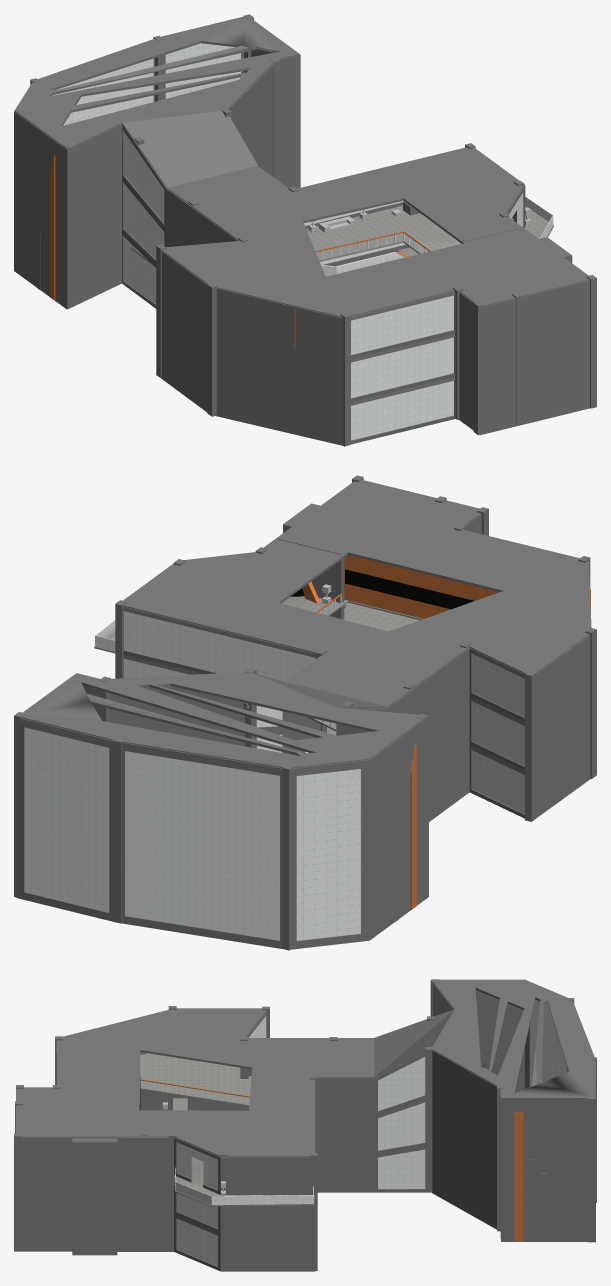
The model's file is level2.FBX.
3 views of the same model, one above another, from view 1: azimuth 30°, elevation 25°; view 2: azimuth 150°, elevation 25°; view 3: azimuth 270°, elevation 25° (orthographic). The views are drawn at different scales.
Visible parts, largest first — view 1: walls, celing, windows_l2, pillars, Floor_2-3, glass_elements, ornaments_optimised, furniture_optimised; view 2: celing, windows_l2, walls, pillars, ornaments_optimised, Floor_2-3, blocking_element; view 3: walls, celing, windows_l2, pillars, filling_elements, Floor_2-3, ornaments_optimised, glass_elements, inner_wall.
Part boxes in pixels (box(x1,y1,x2,y2)): walls: box(14, 50, 589, 445); celing: box(15, 16, 589, 317); windows_l2: box(52, 43, 523, 440); pillars: box(30, 14, 596, 446); Floor_2-3: box(131, 205, 553, 265); glass_elements: box(321, 196, 553, 276); ornaments_optimised: box(50, 155, 344, 446); furniture_optimised: box(308, 207, 531, 232); celing: box(21, 480, 590, 768); windows_l2: box(24, 611, 524, 940); walls: box(16, 514, 591, 949); pillars: box(14, 475, 596, 950); ornaments_optimised: box(344, 555, 590, 909); Floor_2-3: box(94, 596, 422, 734); blocking_element: box(278, 537, 344, 619); walls: box(16, 980, 595, 1271); celing: box(16, 979, 594, 1157); windows_l2: box(177, 999, 565, 1266); pillars: box(14, 979, 596, 1270); filling_elements: box(72, 1138, 117, 1255); Floor_2-3: box(140, 1053, 314, 1206); ornaments_optimised: box(139, 1077, 523, 1241); glass_elements: box(175, 1167, 313, 1204); inner_wall: box(140, 1089, 240, 1110).
Size of the model in its own units: 41.08 by 17.4 by 63.37.
